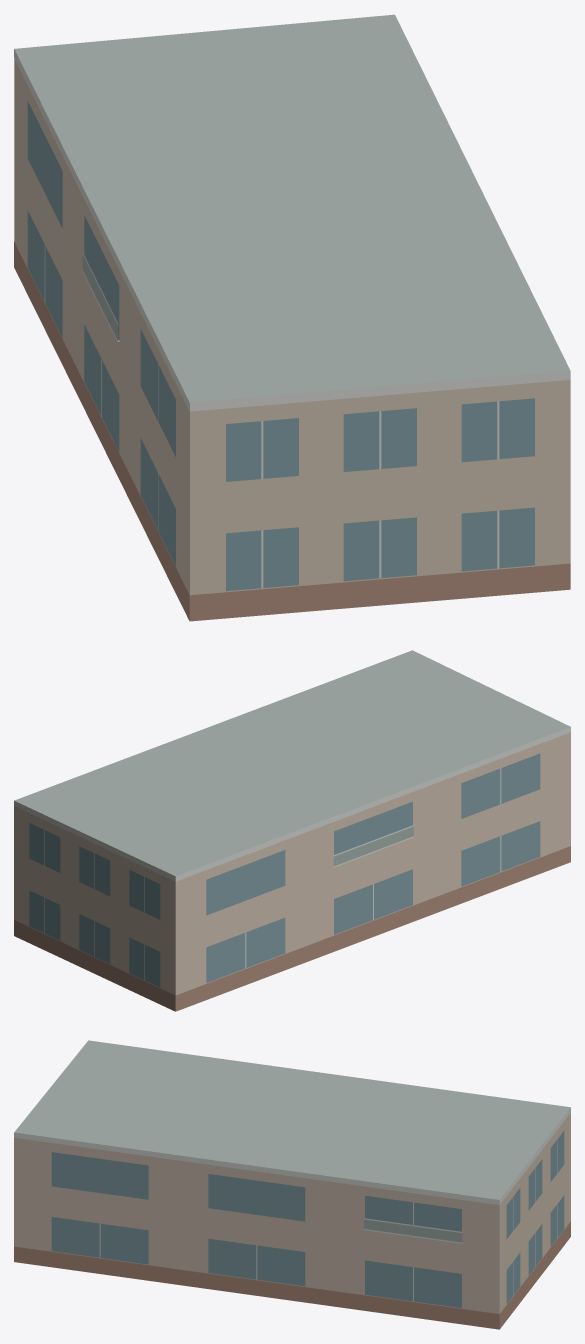
Rendered from survey-upis-32825633.glb.
The picture shows the model from 3 angles, top to bottom: view 1: azimuth 30°, elevation 25°; view 2: azimuth 150°, elevation 25°; view 3: azimuth 270°, elevation 25°; orthographic projection. The views are drawn at different scales.
Parts seen in each view (by area): view 1: survey-upis-32825633.tmp; view 2: survey-upis-32825633.tmp; view 3: survey-upis-32825633.tmp.
Part boxes in pixels (x1,y1,x2,y2): survey-upis-32825633.tmp: (14,14,570,621); survey-upis-32825633.tmp: (14,650,570,1011); survey-upis-32825633.tmp: (14,1040,570,1329).
Size of the model in its own units: 16.14 by 6.1 by 23.77.
